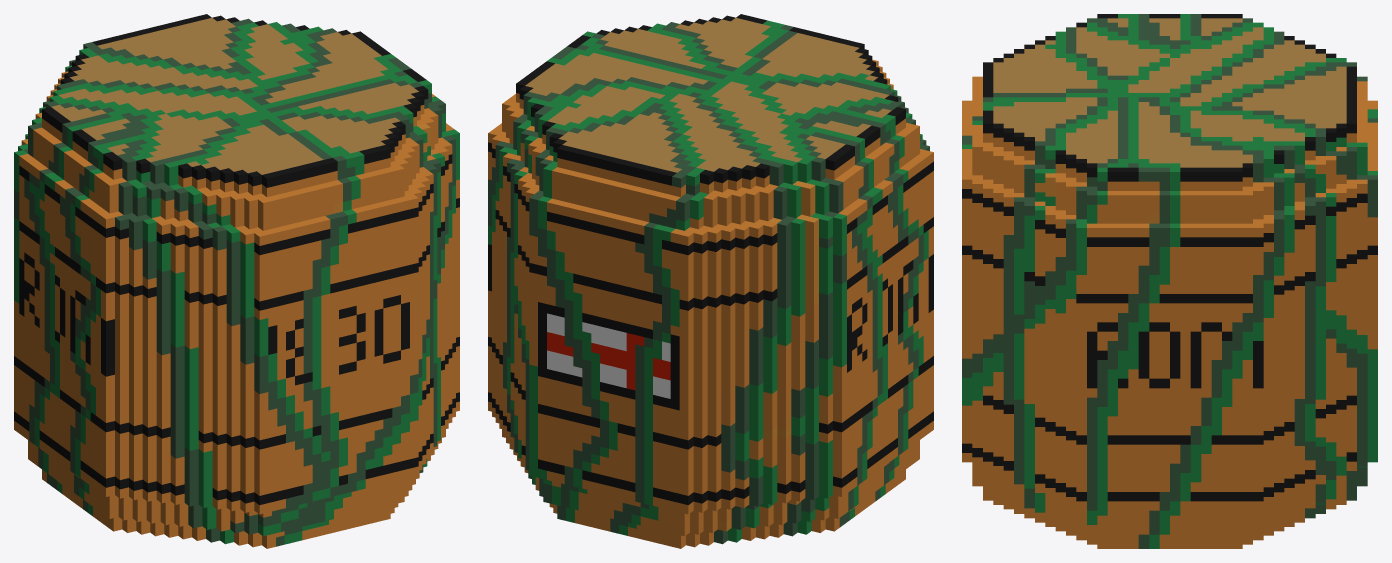
Rendered from box 1 cкин.obj.
The picture shows the model from 3 angles, left to right: view 1: azimuth 30°, elevation 25°; view 2: azimuth 150°, elevation 25°; view 3: azimuth 270°, elevation 25°; orthographic projection.
Size of the model in its own units: 4 by 4 by 4.
Materials: 1 (1 with a texture image).
